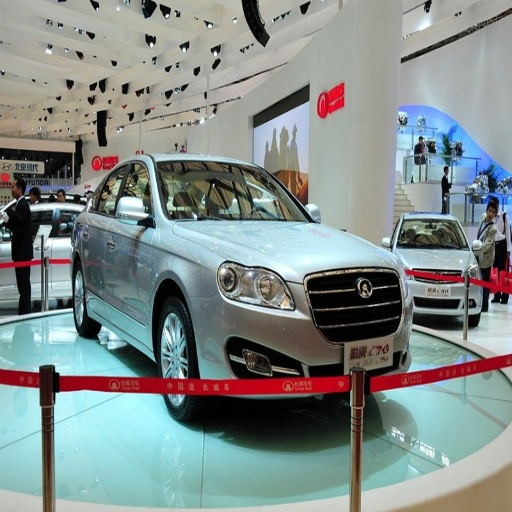front_bumper: (193, 267, 424, 407)
front_right_door: (109, 159, 153, 329)
front_right_light: (218, 260, 296, 311)
